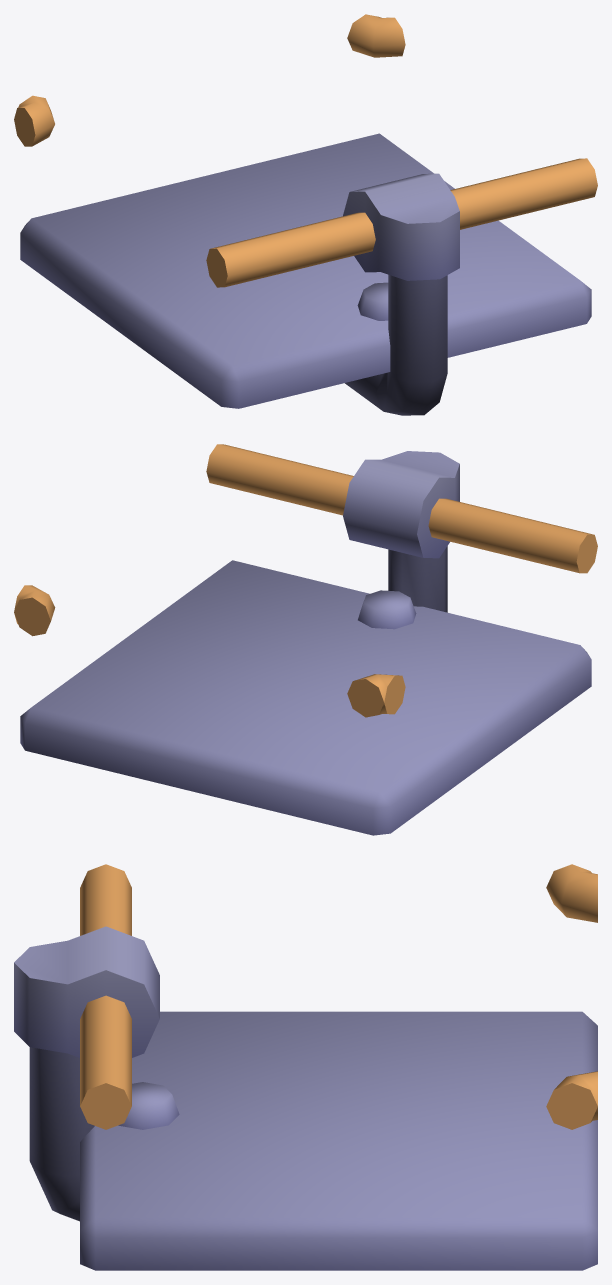
The model's file is catwalk-junction.glb.
The picture shows the model from 3 angles, top to bottom: view 1: azimuth 30°, elevation 25°; view 2: azimuth 150°, elevation 25°; view 3: azimuth 270°, elevation 25°; orthographic projection. The views are drawn at different scales.
Parts seen in each view (by area): view 1: catwalk-junction; view 2: catwalk-junction; view 3: catwalk-junction.
Boxes of the visible parts, x1,y1,x2,y2 form: catwalk-junction: (14,14,597,415); catwalk-junction: (14,444,597,835); catwalk-junction: (14,864,597,1270).
Size of the model in its own units: 1 by 0.6014 by 1.13.
Materials: 1 (1 with a texture image).
